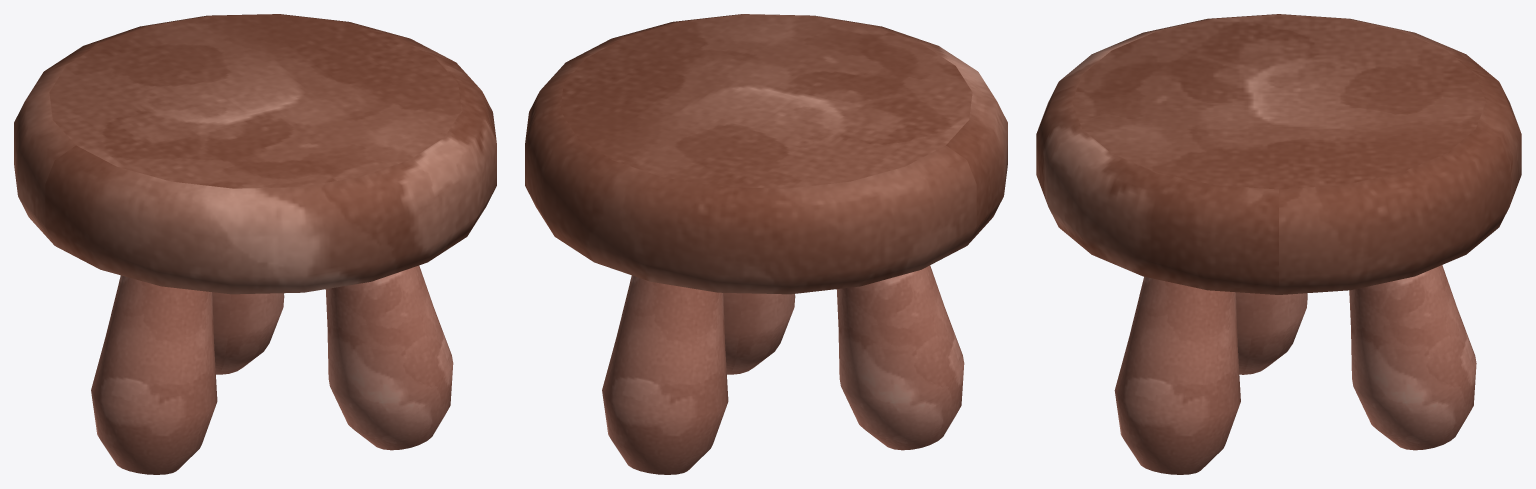
File: SM_Stool.fbx
The picture shows the model from 3 angles, left to right: view 1: azimuth 30°, elevation 25°; view 2: azimuth 150°, elevation 25°; view 3: azimuth 270°, elevation 25°; orthographic projection.
Visible parts, largest first — view 1: SM_Stool; view 2: SM_Stool; view 3: SM_Stool.
Boxes of the visible parts, x1,y1,x2,y2 form: SM_Stool: (14, 14, 496, 474); SM_Stool: (525, 14, 1007, 474); SM_Stool: (1036, 14, 1521, 474).
Bounding box in the file's own units: 72.7 × 53.35 × 72.7.
1 material, 1 textured.
